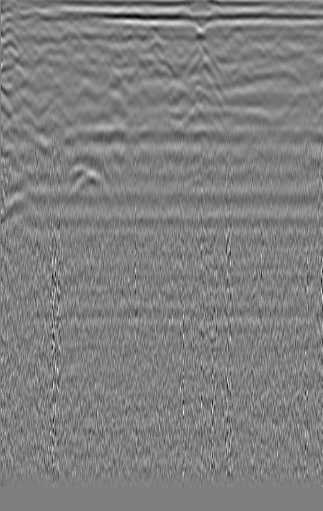상수: (291, 53, 321, 81)
오수: (1, 25, 33, 60)
우수: (133, 45, 174, 84)
